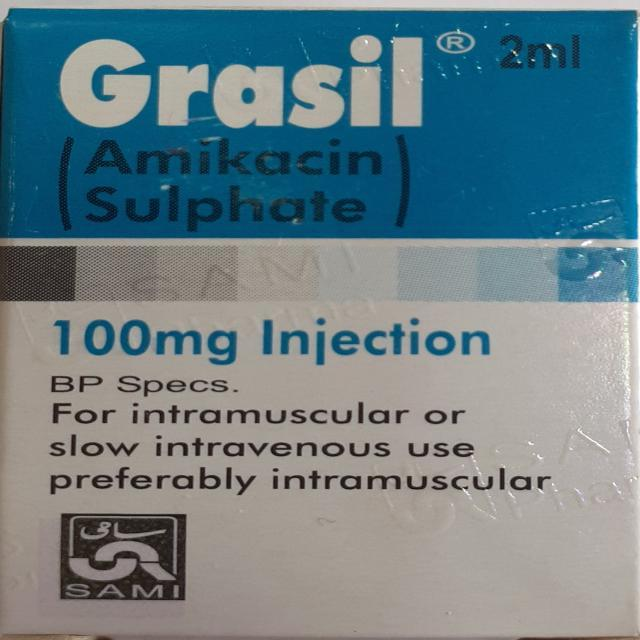drug-name: (60, 31, 428, 130)
